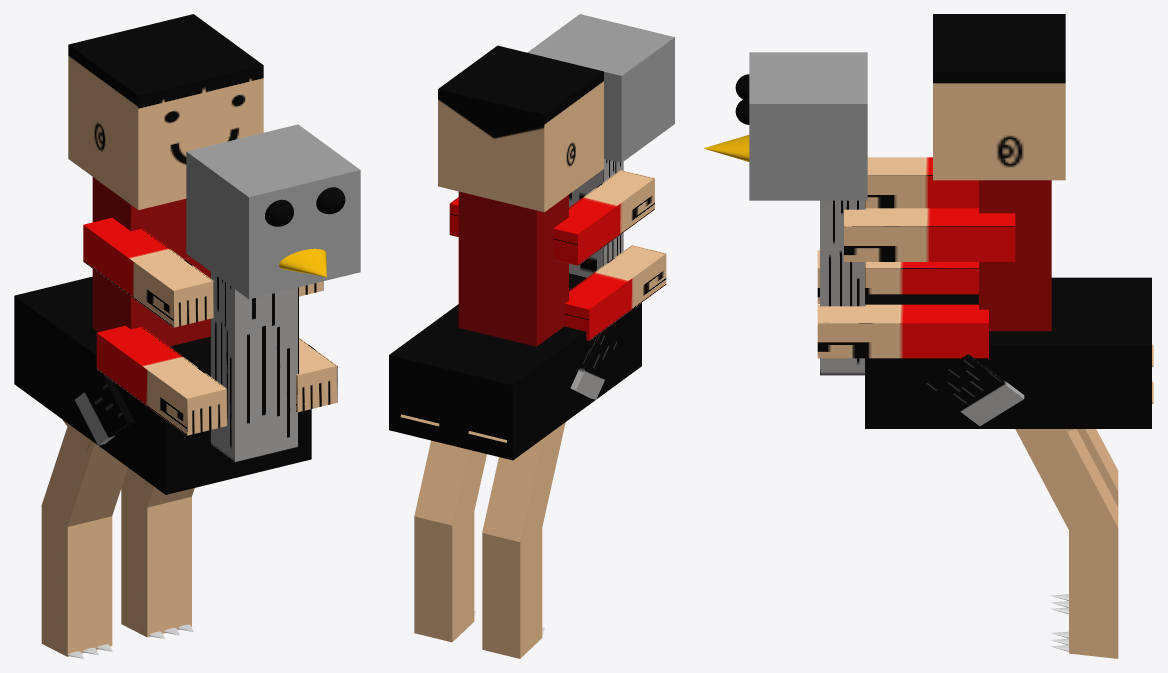
The model's file is Ostrich.FBX.
3 views of the same model, side by side, from view 1: azimuth 30°, elevation 25°; view 2: azimuth 150°, elevation 25°; view 3: azimuth 270°, elevation 25° (orthographic). The views are drawn at different scales.
Visible parts, largest first — view 1: face (×2), body, neck, Asi004, Asi002, Box030, Box020, human, Asi003, WingRight, Box029, Asi (+3 smaller); view 2: face (×2), body, human, Asi002, Asi004, Box020, Box030, Asi003, Asi, WingRight, neck; view 3: face (×2), body, Box029, human, Box028, Asi, Asi002, Box020, neck, Box030, WingLeft, Asi003 (+1 smaller).
Part boxes in pixels (x1=…): face (×2): x1=68, y1=14, x2=360, y2=299; body: x1=14, y1=276, x2=311, y2=494; neck: x1=210, y1=272, x2=298, y2=462; Asi004: x1=41, y1=506, x2=112, y2=656; Asi002: x1=121, y1=487, x2=191, y2=637; Box030: x1=96, y1=325, x2=227, y2=435; Box020: x1=83, y1=217, x2=213, y2=327; human: x1=92, y1=177, x2=210, y2=346; Asi003: x1=41, y1=427, x2=127, y2=526; WingRight: x1=75, y1=376, x2=134, y2=445; Box029: x1=296, y1=338, x2=337, y2=412; Asi: x1=122, y1=467, x2=194, y2=507; face (×2): x1=438, y1=14, x2=674, y2=212; body: x1=389, y1=273, x2=641, y2=460; human: x1=458, y1=191, x2=568, y2=346; Asi002: x1=414, y1=505, x2=474, y2=642; Asi004: x1=482, y1=521, x2=542, y2=658; Box020: x1=553, y1=170, x2=654, y2=265; Box030: x1=564, y1=245, x2=666, y2=340; Asi003: x1=482, y1=427, x2=564, y2=541; Asi: x1=414, y1=440, x2=486, y2=525; WingRight: x1=570, y1=333, x2=620, y2=399; neck: x1=569, y1=158, x2=623, y2=277; face (×2): x1=749, y1=14, x2=1065, y2=200; body: x1=865, y1=277, x2=1151, y2=428; Box029: x1=817, y1=304, x2=988, y2=358; human: x1=979, y1=180, x2=1051, y2=331; Box028: x1=844, y1=208, x2=1015, y2=261; Asi: x1=1015, y1=429, x2=1118, y2=537; Asi002: x1=1069, y1=528, x2=1118, y2=658; Box020: x1=865, y1=157, x2=978, y2=208; neck: x1=820, y1=200, x2=865, y2=375; Box030: x1=817, y1=250, x2=978, y2=303; WingLeft: x1=924, y1=354, x2=1024, y2=425; Asi003: x1=1077, y1=429, x2=1118, y2=492.
Size of the model in its own units: 1.14 by 4.18 by 2.91.
Materials: 9 (8 with a texture image).
